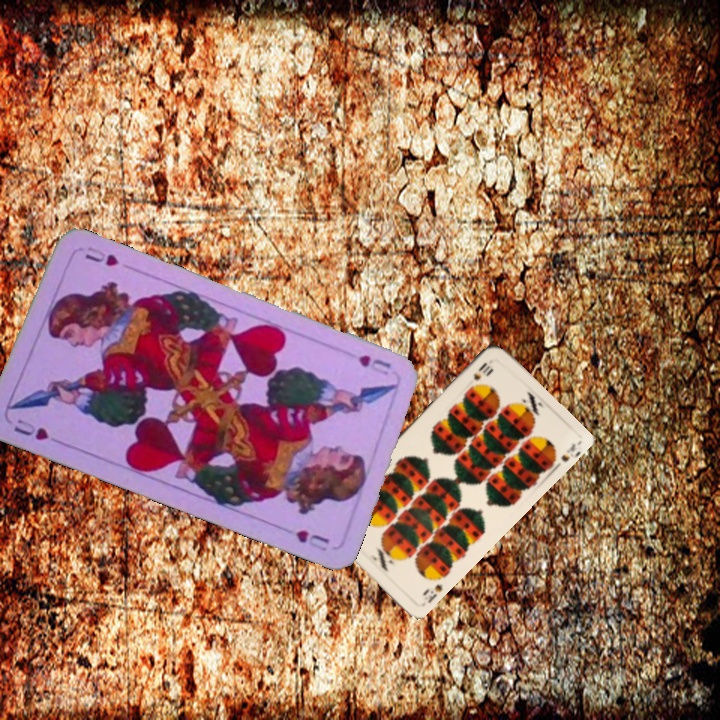HU: (10, 415, 51, 443), (354, 350, 394, 378)
S10: (418, 580, 445, 608), (469, 358, 493, 383)
